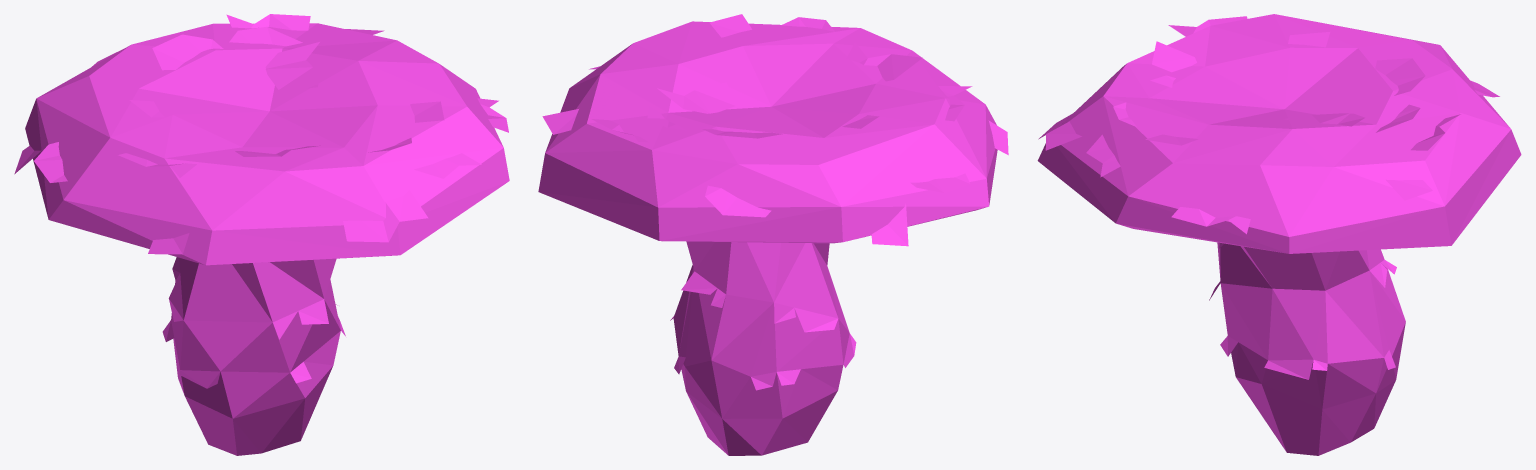
Rendered from SM_Mushroom_Fluffy_Big_C_Fantasy.fbx.
3 renders of one model, left to right at view 1: azimuth 30°, elevation 25°; view 2: azimuth 150°, elevation 25°; view 3: azimuth 270°, elevation 25°, orthographic. The views are drawn at different scales.
Parts seen in each view (by area): view 1: SM_Mushroom_Fluffy_Big_C_Fantasy; view 2: SM_Mushroom_Fluffy_Big_C_Fantasy; view 3: SM_Mushroom_Fluffy_Big_C_Fantasy.
Part boxes in pixels (<box>): SM_Mushroom_Fluffy_Big_C_Fantasy: <box>14,14,509,455</box>; SM_Mushroom_Fluffy_Big_C_Fantasy: <box>538,14,1008,455</box>; SM_Mushroom_Fluffy_Big_C_Fantasy: <box>1037,14,1521,455</box>.
Bounding box in the file's own units: 1.54 × 1.27 × 1.53.
